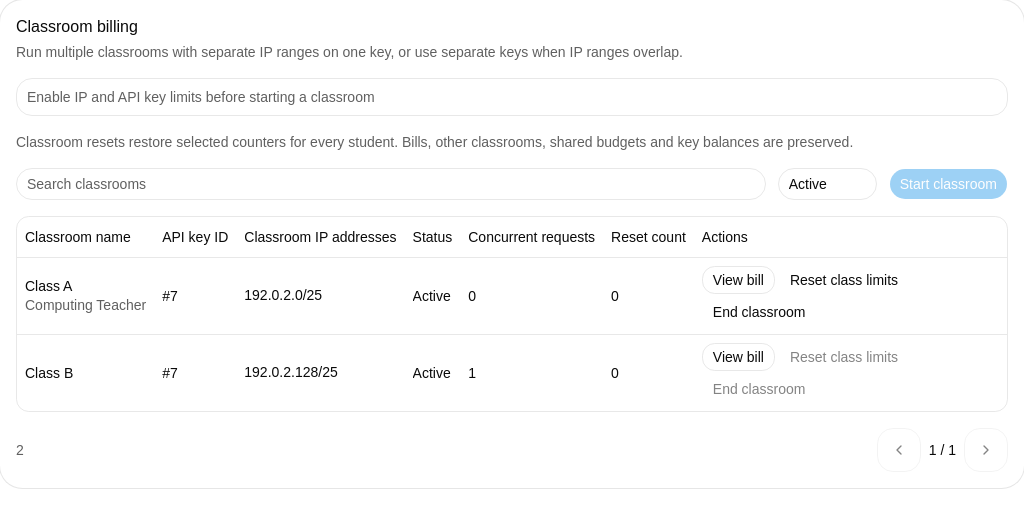
Test case: concurrent classroom management › disables new classrooms when joint limits are off and shows an empty result after search
expect the button "Start classroom" is disabled: met, box 889,168 -> 1008,200
Type "No match" into the field labelled "Search classrooms". click: (391, 184)
box: 16,168 -> 766,200
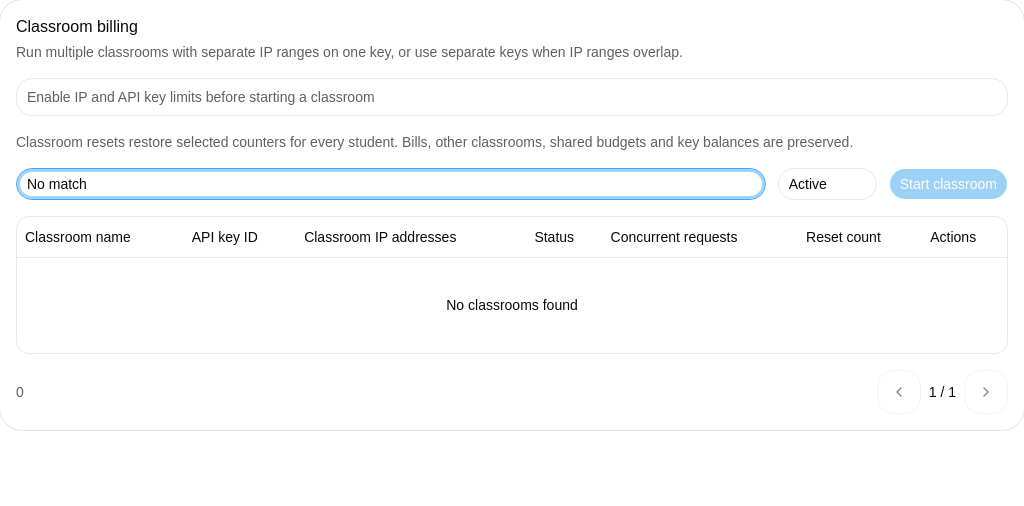
expect the text "No classrooms found" is shown: met, box 17,257 -> 1007,353
